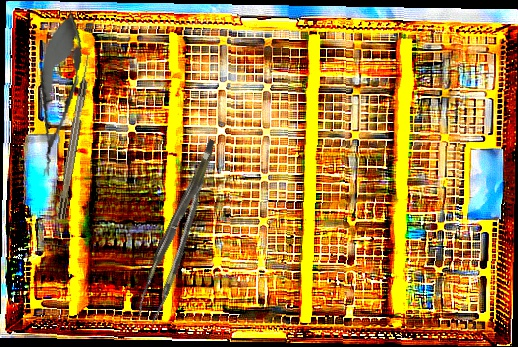Hook Surgical: (55, 54, 94, 220)
Micro Scissor: (25, 6, 90, 182)
Tissue Forceps: (125, 138, 238, 325)
